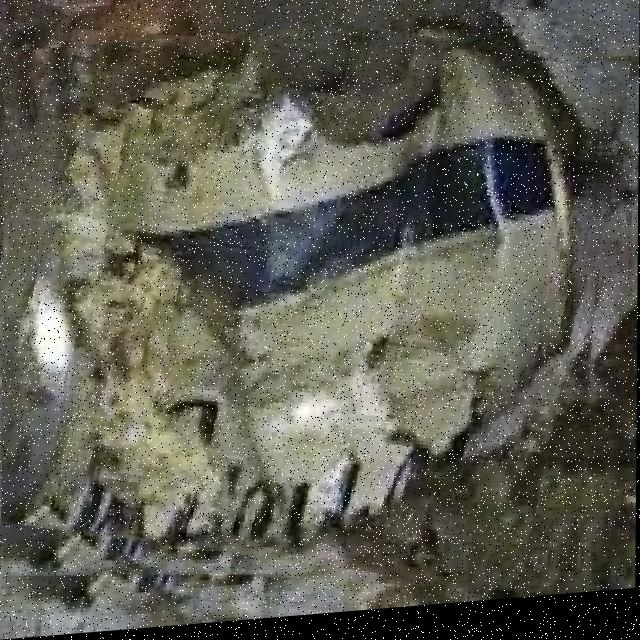can: (1, 13, 615, 619)
